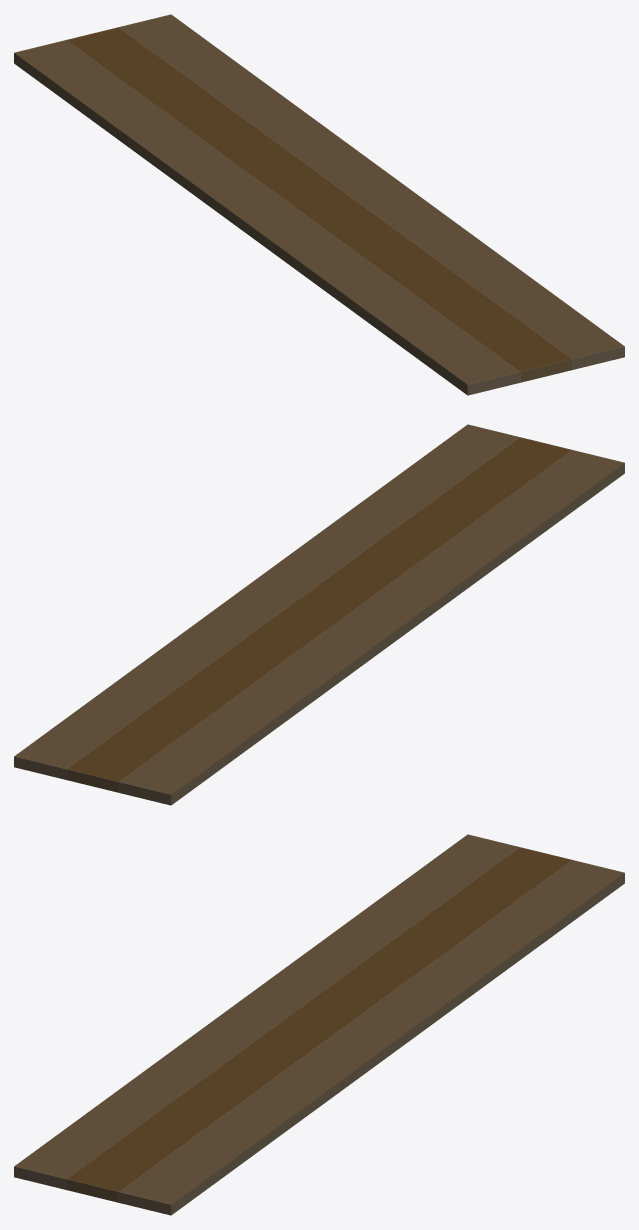
Rendered from track.fbx.
3 renders of one model, top to bottom at view 1: azimuth 30°, elevation 25°; view 2: azimuth 150°, elevation 25°; view 3: azimuth 330°, elevation 25°, orthographic.
Visible parts, largest first — view 1: pPlane1; view 2: pPlane1; view 3: pPlane1.
Part boxes in pixels (left/top/right/bottom): pPlane1: left=14, top=14, right=624, bottom=395; pPlane1: left=14, top=424, right=624, bottom=805; pPlane1: left=14, top=834, right=624, bottom=1215.
Size of the model in its own units: 100 by 6.53 by 500.
1 material, 1 textured.
